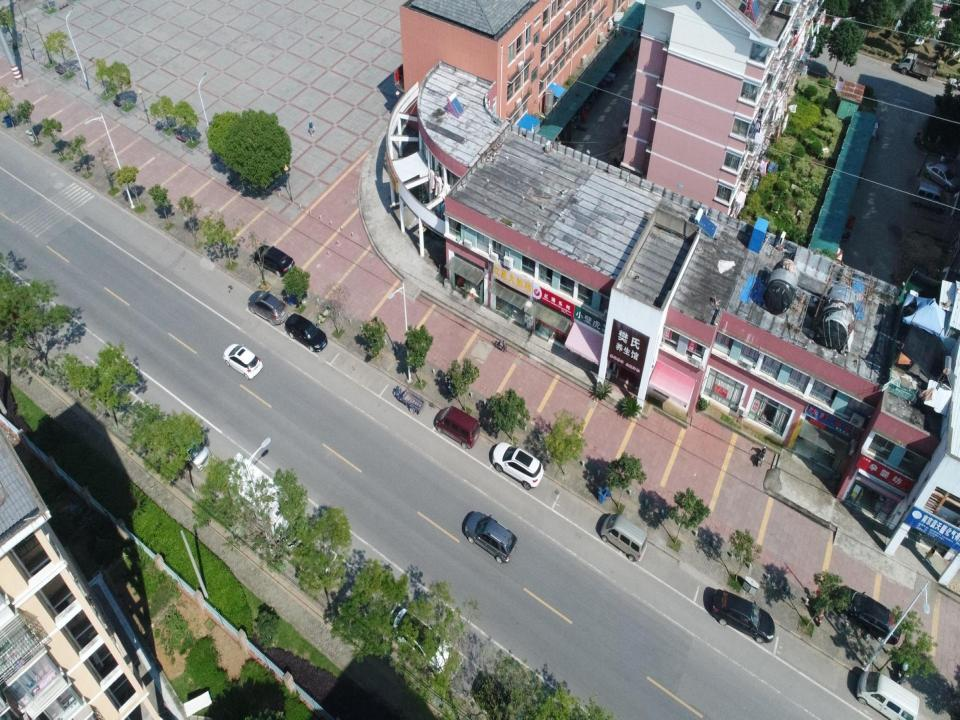car: (832, 585, 903, 645), (392, 607, 450, 675), (711, 588, 775, 644), (464, 511, 518, 564), (492, 440, 544, 491), (471, 670, 521, 719), (1, 279, 41, 338), (170, 426, 212, 472), (284, 313, 328, 353), (222, 343, 264, 380), (248, 290, 288, 326), (254, 244, 296, 278), (924, 160, 960, 193), (621, 115, 644, 133)
truck: (898, 52, 939, 82)
van: (218, 451, 308, 554), (856, 670, 920, 719), (600, 513, 648, 563), (434, 405, 481, 450), (912, 181, 947, 215)
